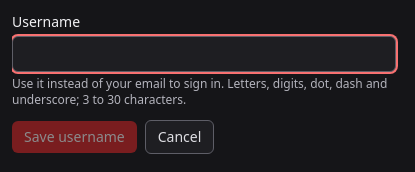
Scenario: UsernameForm › explains a bad name as you type it and will not send it
Step 1. Type "ab" into the field labelled "Username" → (204, 54), box [12,36,396,72]
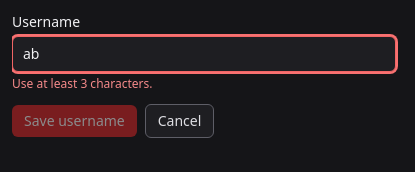
expect the button "Save username" is disabled: met, box [12,105,137,137]
expect the text "Use at least 3 characters." is shown: met, box [12,75,152,92]
Step 2. Replace the text in the field labelled "Username" with "me@club.test" → (204, 54), box [12,36,396,72]
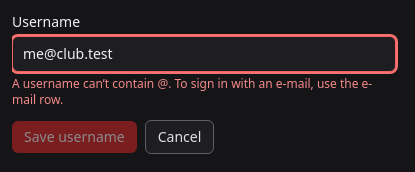
expect the text "can’t contain @" is shown: met, box [12,75,372,108]
